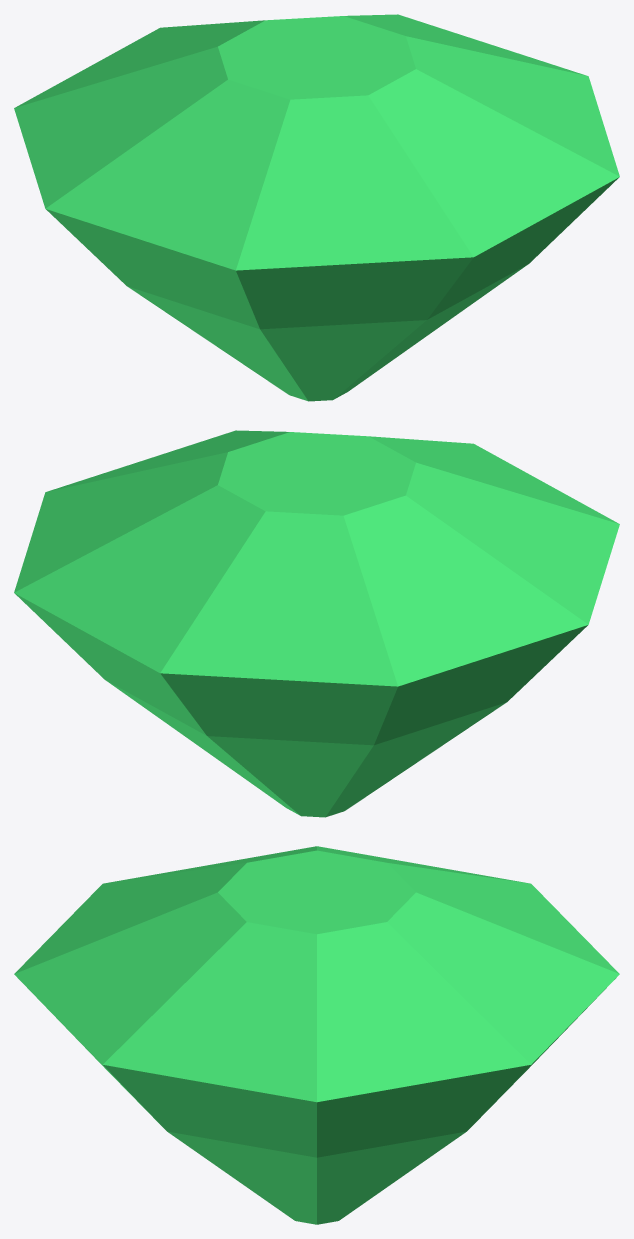
Rendered from GreenGem.fbx.
3 renders of one model, top to bottom at view 1: azimuth 30°, elevation 25°; view 2: azimuth 150°, elevation 25°; view 3: azimuth 270°, elevation 25°, orthographic. The views are drawn at different scales.
Visible parts, largest first — view 1: Gem; view 2: Gem; view 3: Gem.
Boxes of the visible parts, <box> form: Gem: <box>14,14,619,401</box>; Gem: <box>14,430,619,817</box>; Gem: <box>14,846,619,1224</box>.
Size of the model in its own units: 200 by 116 by 200.
